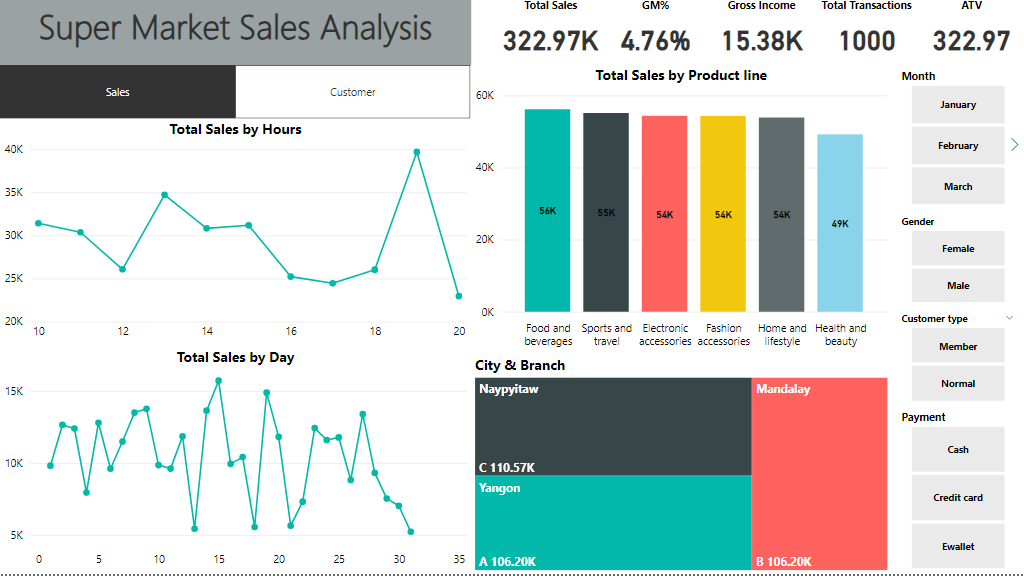

The page's visual inventory and layout, read from the dashboard file:
{"tool":"powerbi","page":{"name":"Sales","canvas":[1280,720],"ordinal":0},"visuals":[{"type":"lineChart","title":"Total Sales by Day","fields":{"Category":["SuperMarket_Sales.Date.Variation.Date Hierarchy.Day"],"Y":["Sum(SuperMarket_Sales.Total)"]},"box":[0,435.7,588.6,284.3],"z":0},{"type":"columnChart","title":"Total Sales by Product line","fields":{"Category":["SuperMarket_Sales.Product line"],"Y":["Sum(SuperMarket_Sales.Total)"],"Series":["SuperMarket_Sales.Product line"]},"box":[588.6,84.3,525.7,361.4],"z":1000},{"type":"treemap","title":"City & Branch","fields":{"Group":["SuperMarket_Sales.City"],"Values":["Sum(SuperMarket_Sales.Total)"],"Details":["SuperMarket_Sales.Branch"]},"box":[588.6,445.7,525.7,274.3],"z":2000},{"type":"textbox","box":[0,0,588.6,84.3],"z":3000},{"type":"lineChart","title":"Total Sales by Hours","fields":{"Y":["Sum(SuperMarket_Sales.Total)"],"Category":["SuperMarket_Sales.Hours"]},"box":[0,151.4,588.6,284.3],"z":4000},{"type":"card","title":"Total Sales","fields":{"Values":["Sum(SuperMarket_Sales.Total)"]},"box":[622.9,0,131.4,84.3],"z":5000},{"type":"card","title":"ATV","fields":{"Values":["SuperMarket_Sales.ATV"]},"box":[1148.6,0,131.4,84.3],"z":6000},{"type":"card","title":"Total Transactions","fields":{"Values":["SuperMarket_Sales.Number of Orders"]},"box":[1017.1,0,131.4,84.3],"z":7000},{"type":"card","title":"Gross Income","fields":{"Values":["Sum(SuperMarket_Sales.Gross income)"]},"box":[885.7,0,131.4,84.3],"z":8000},{"type":"card","title":"GM%","fields":{"Values":["Avg(SuperMarket_Sales.GM%)"]},"box":[754.3,0,131.4,84.3],"z":9000},{"type":"pageNavigator","box":[0,84.3,588.6,67.1],"z":10000},{"type":"slicer","title":"Gender","fields":{"Values":["SuperMarket_Sales.Gender"]},"box":[1114.3,265.7,165.7,121.4],"z":11000},{"type":"slicer","title":"Customer Type","fields":{"Values":["SuperMarket_Sales.Customer type"]},"box":[1114.3,387.1,165.7,122.9],"z":12000},{"type":"slicer","title":"Payment","fields":{"Values":["SuperMarket_Sales.Payment"]},"box":[1114.3,510,165.7,210],"z":13000},{"type":"slicer","title":"GEnder","fields":{"Values":["SuperMarket_Sales.Date.Variation.Date Hierarchy.Month"]},"box":[1114.3,84.3,165.7,181.4],"z":14000}]}

Visuals, with their boxes in screenshot pixels (x1, y1, x2, y2), scaled from the page's 1280x720 canvas onto the 1024x576 screenshot:
"Total Sales by Day" lineChart: box=[0, 349, 471, 575]
"Total Sales by Product line" columnChart: box=[471, 67, 891, 357]
"City & Branch" treemap: box=[471, 357, 891, 575]
textbox: box=[0, 0, 471, 67]
"Total Sales by Hours" lineChart: box=[0, 121, 471, 349]
"Total Sales" card: box=[498, 0, 603, 67]
"ATV" card: box=[919, 0, 1023, 67]
"Total Transactions" card: box=[814, 0, 919, 67]
"Gross Income" card: box=[709, 0, 814, 67]
"GM%" card: box=[603, 0, 709, 67]
pageNavigator: box=[0, 67, 471, 121]
"Gender" slicer: box=[891, 213, 1023, 310]
"Customer Type" slicer: box=[891, 310, 1023, 408]
"Payment" slicer: box=[891, 408, 1023, 575]
"GEnder" slicer: box=[891, 67, 1023, 213]
